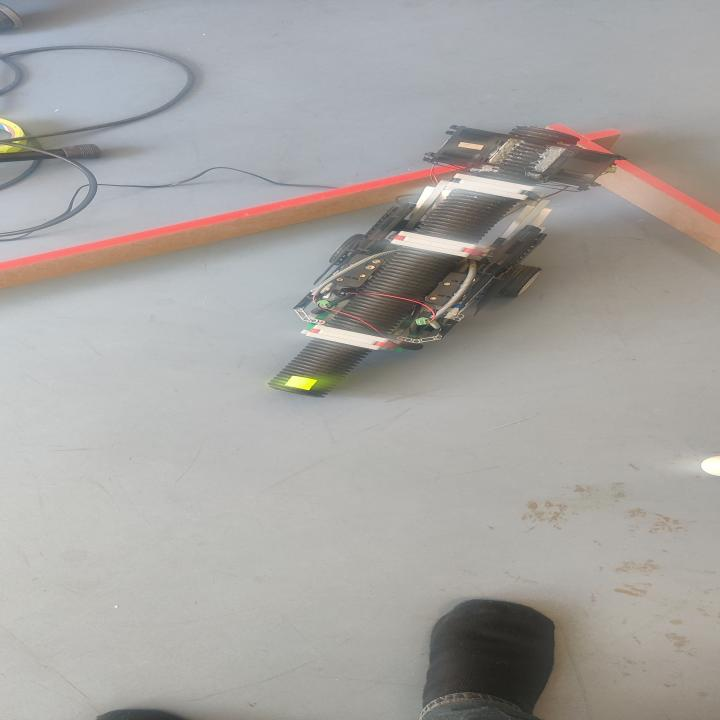robot: (267, 126, 627, 398)
robot-front: (270, 345, 361, 396)
